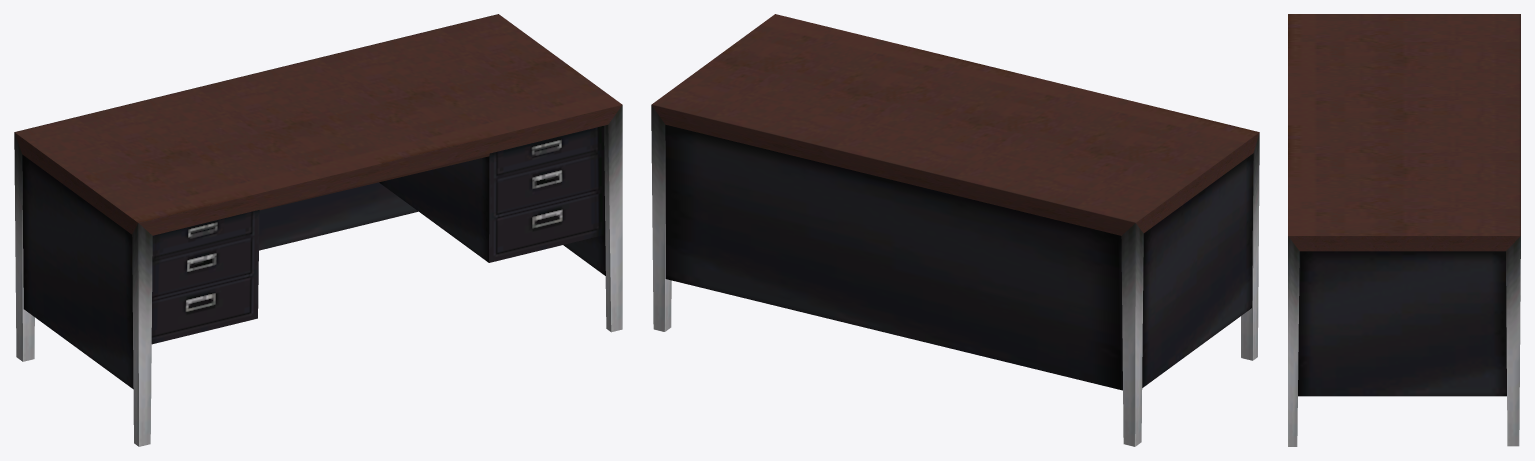
File: desk_med_reg_blumtl.fbx
3 renders of one model, left to right at view 1: azimuth 30°, elevation 25°; view 2: azimuth 150°, elevation 25°; view 3: azimuth 270°, elevation 25°, orthographic. The views are drawn at different scales.
Parts seen in each view (by area): view 1: mesh_0; view 2: mesh_0; view 3: mesh_0.
Part boxes in pixels (<box>): mesh_0: <box>14,14,622,446</box>; mesh_0: <box>651,14,1259,446</box>; mesh_0: <box>1288,14,1520,446</box>.
Size of the model in its own units: 180 by 80 by 80.
1 material, 1 textured.
